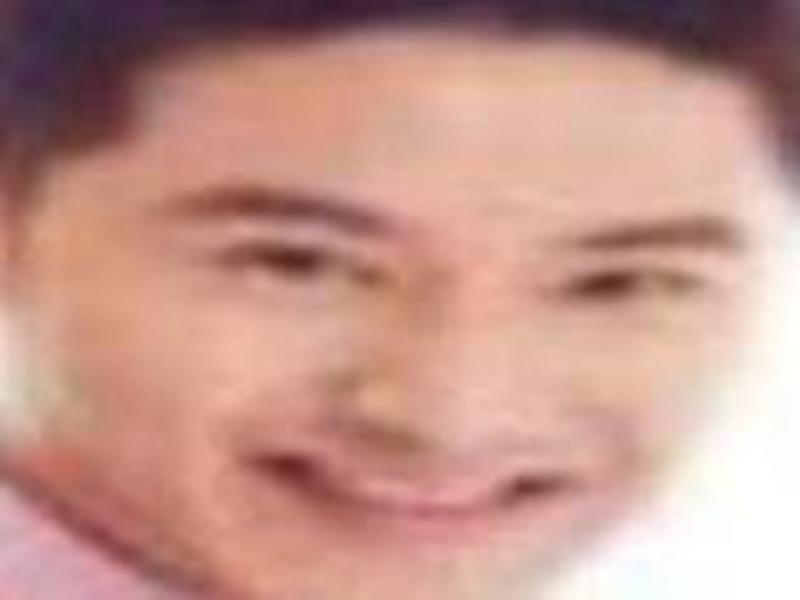without_mask: (48, 36, 774, 600)
